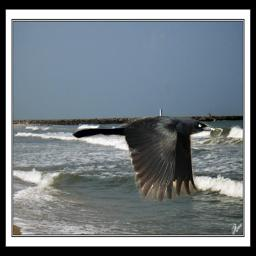Crow: (72, 114, 219, 202)
